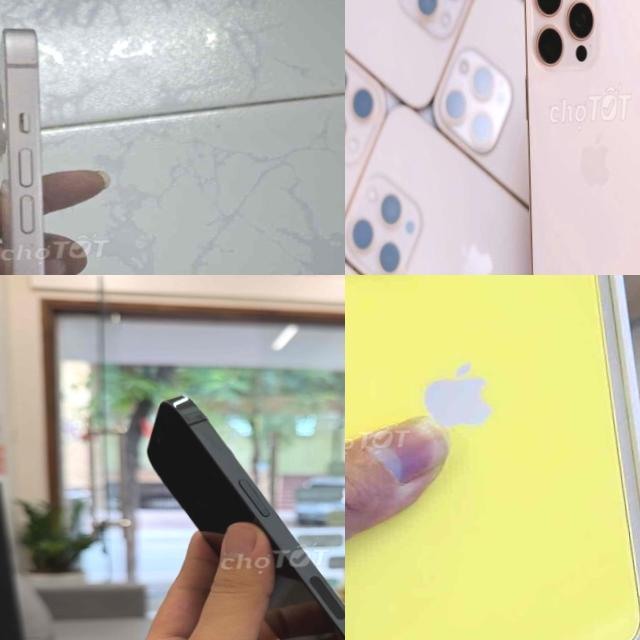gen_12_13: (142, 376, 345, 640), (0, 20, 98, 275)
gen_14: (345, 275, 640, 640)
gen_16: (510, 0, 640, 275)
